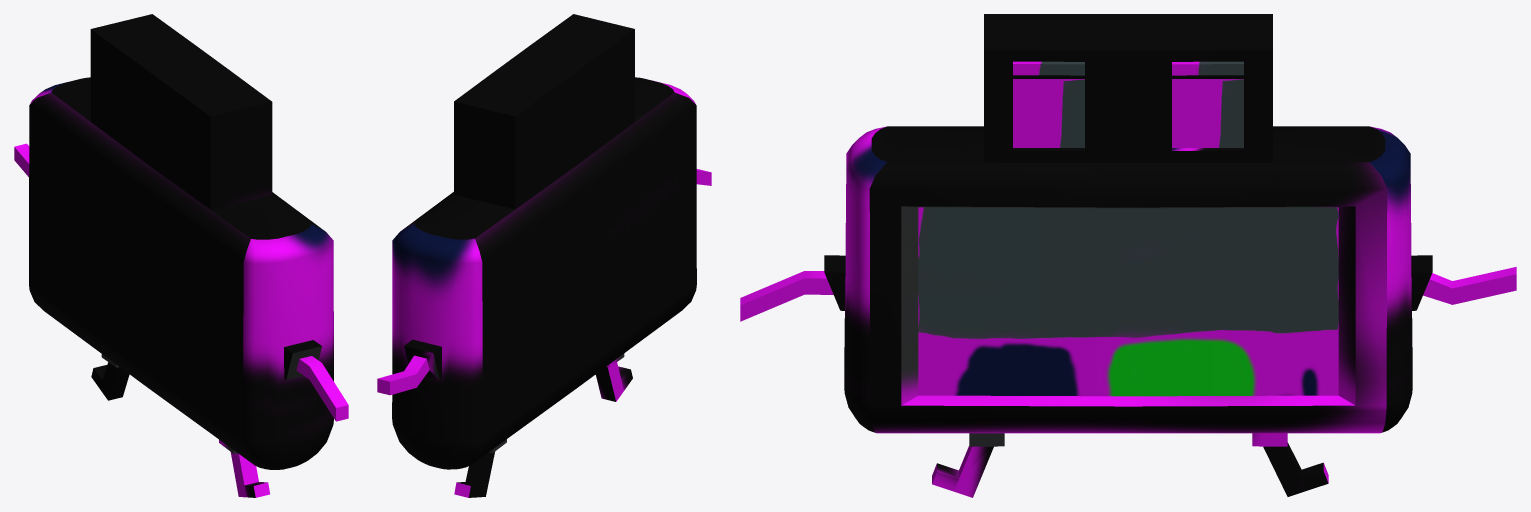
File: M_CompanionBot.fbx
The picture shows the model from 3 angles, left to right: view 1: azimuth 30°, elevation 25°; view 2: azimuth 150°, elevation 25°; view 3: azimuth 270°, elevation 25°; orthographic projection. The views are drawn at different scales.
Visible parts, largest first — view 1: pSphere1; view 2: pSphere1; view 3: pSphere1.
Part boxes in pixels (<box>): pSphere1: <box>14,14,348,497</box>; pSphere1: <box>377,14,711,497</box>; pSphere1: <box>740,14,1516,497</box>.
Bounding box in the file's own units: 3.63 × 13.97 × 21.3.
